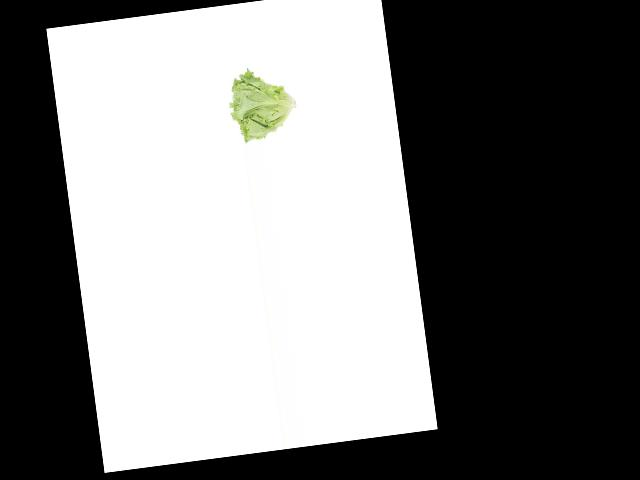lettuce: (222, 66, 302, 146)
